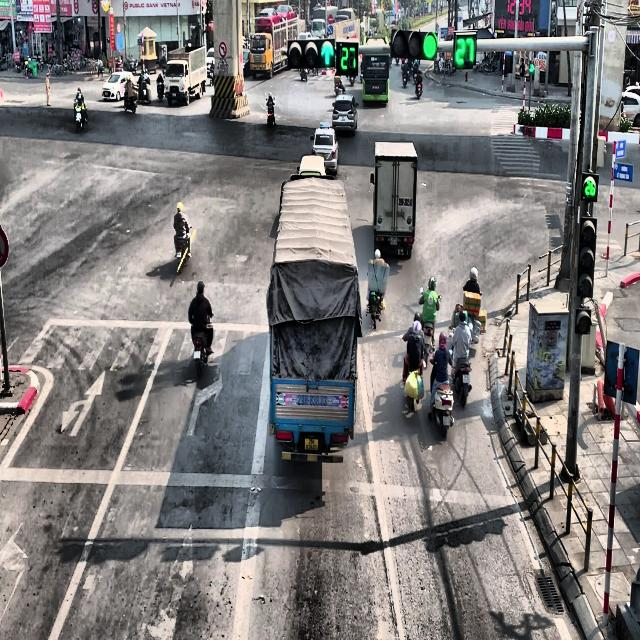lisence_plate: (295, 390, 330, 410), (580, 171, 598, 202), (397, 192, 416, 208), (303, 435, 320, 452), (391, 232, 400, 246), (340, 114, 346, 123), (372, 85, 380, 90), (374, 95, 378, 100)
